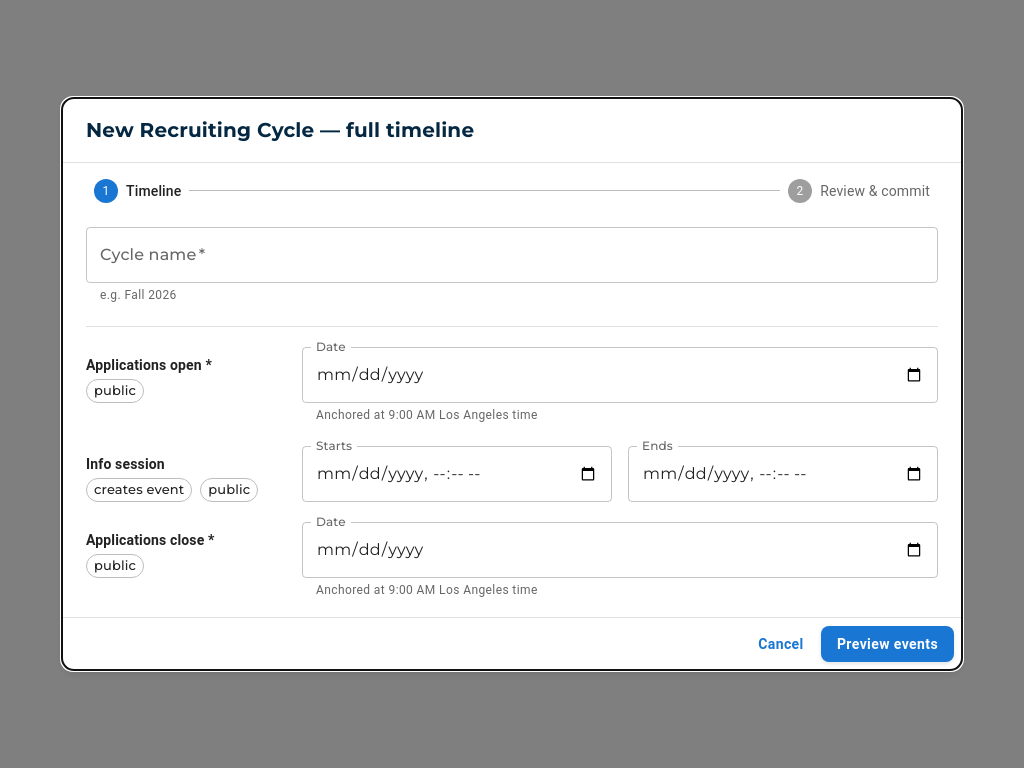
CycleTimelineBootstrapDialog › carries a same-day window with distinct times through preview into commit
This screenshot has width=1024, height=768.
Later steps or results of the test are not shown.
Check: the date field named "Applications open date" is shown, box [302,347,938,403]
Type "Fall 2026" into the field labelled "Cycle name *". click: (512, 255)
box: [86,227,938,283]
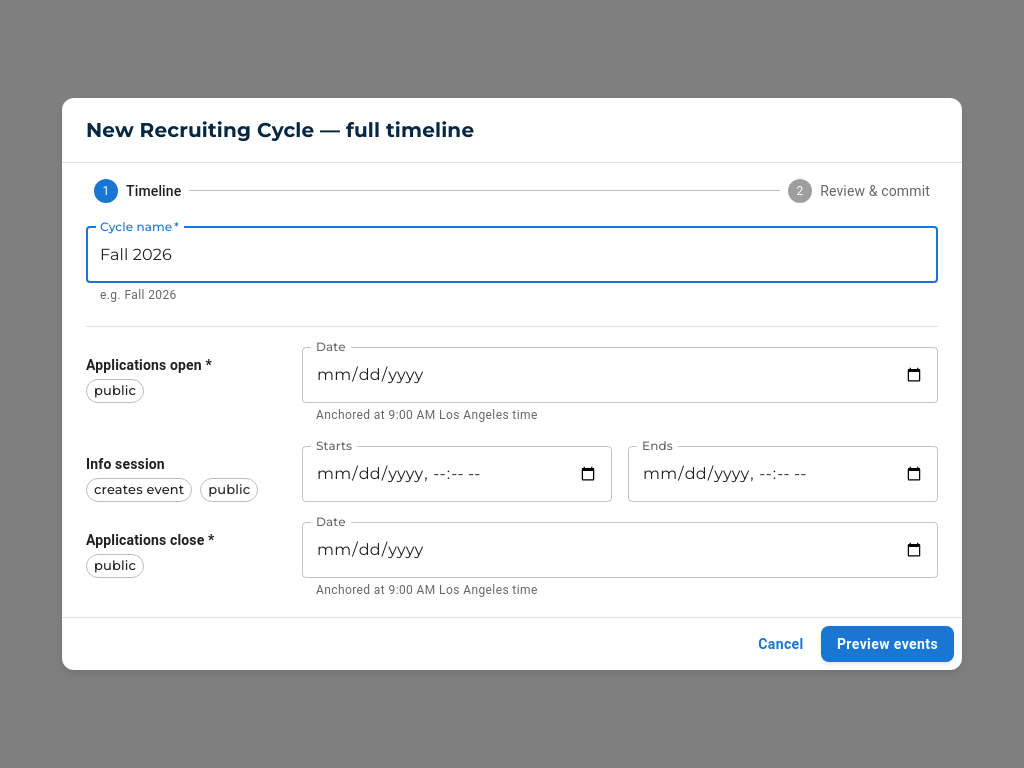
Type "2026-09-01" into the date field named "Applications open date". click: (620, 375)
box: [302,347,938,403]
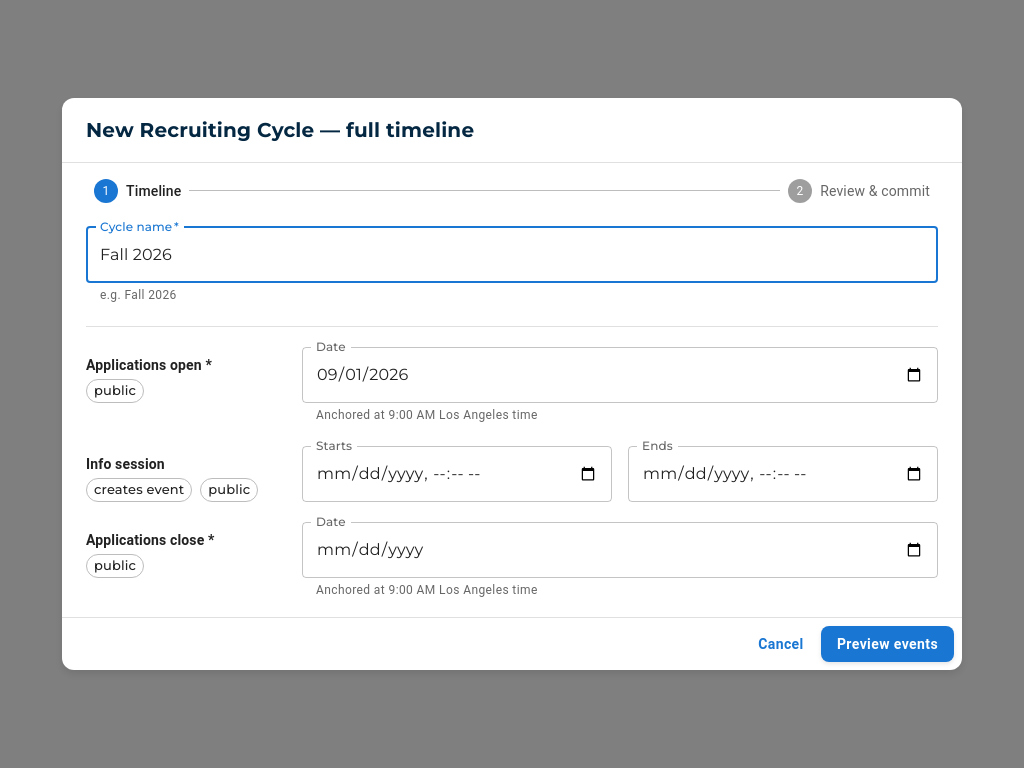
Type "2026-09-05T18:00" into the field named "Info session start". click: (457, 474)
box: [302,446,612,502]
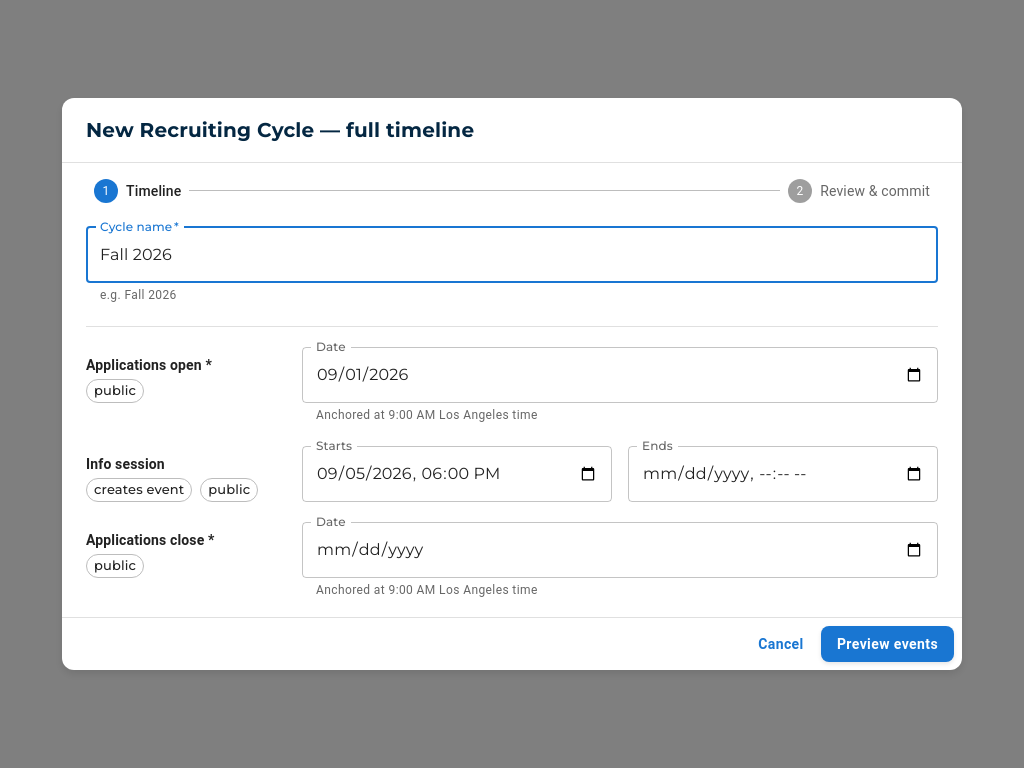
Type "2026-09-05T20:00" into the field named "Info session end". click: (783, 474)
box: [628,446,938,502]
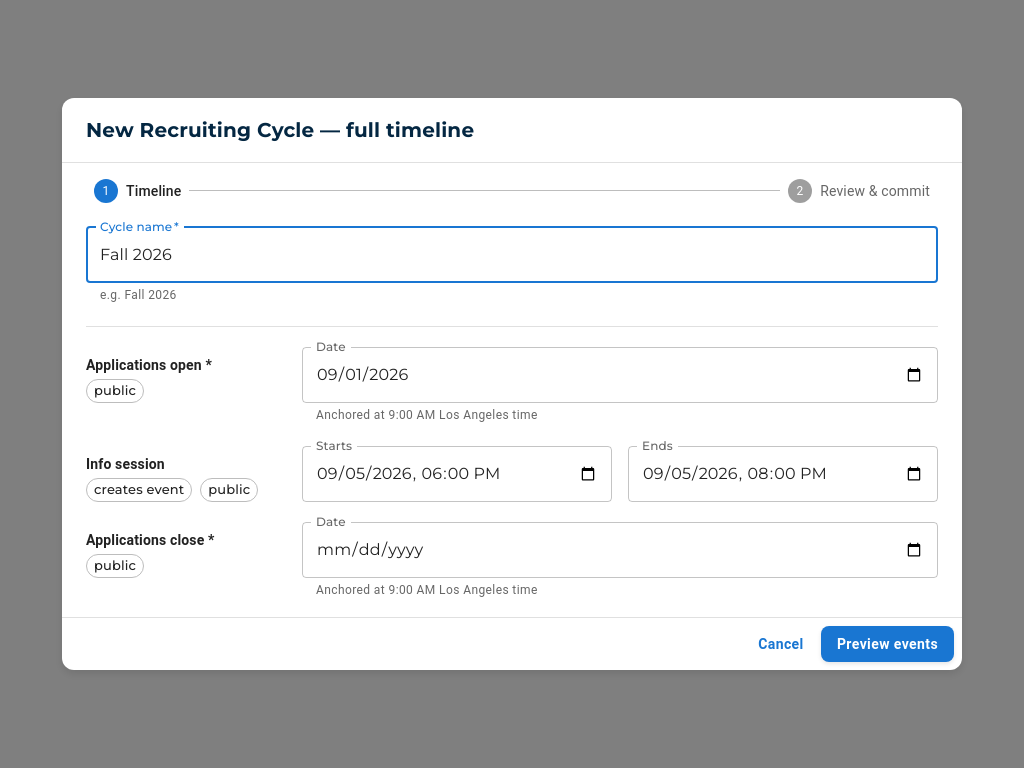
Type "2026-09-20" into the date field named "Applications close date". click: (620, 550)
box: [302,522,938,578]
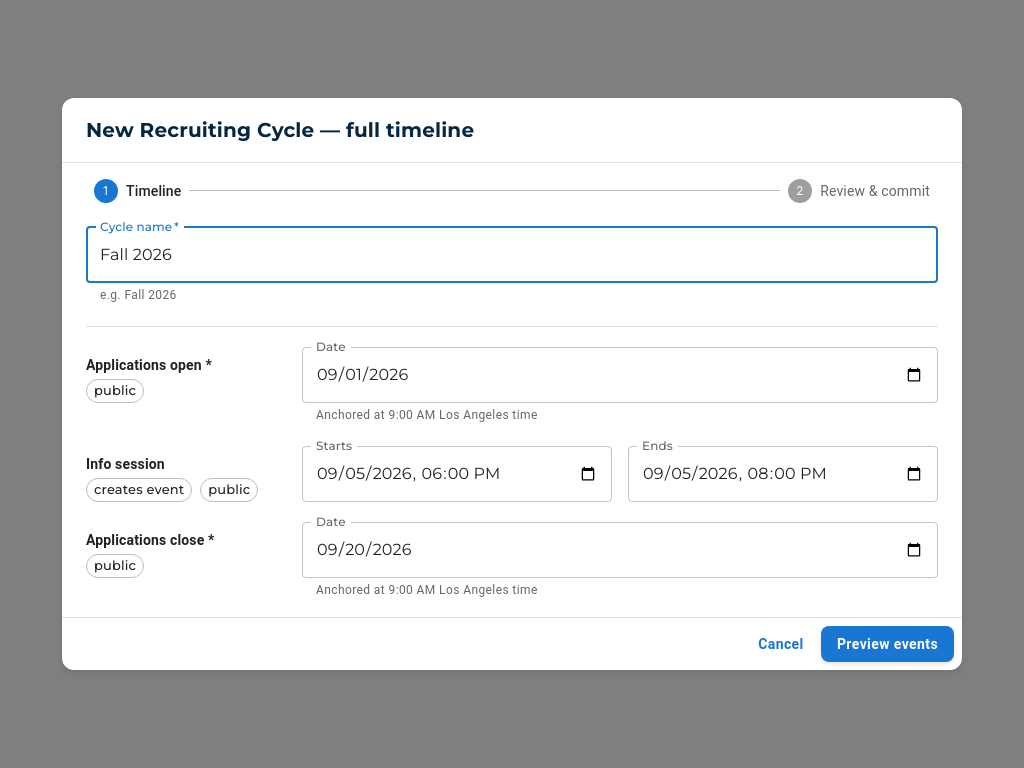
Click the button "Preview events". click: (887, 644)
box: [821,626,954,662]
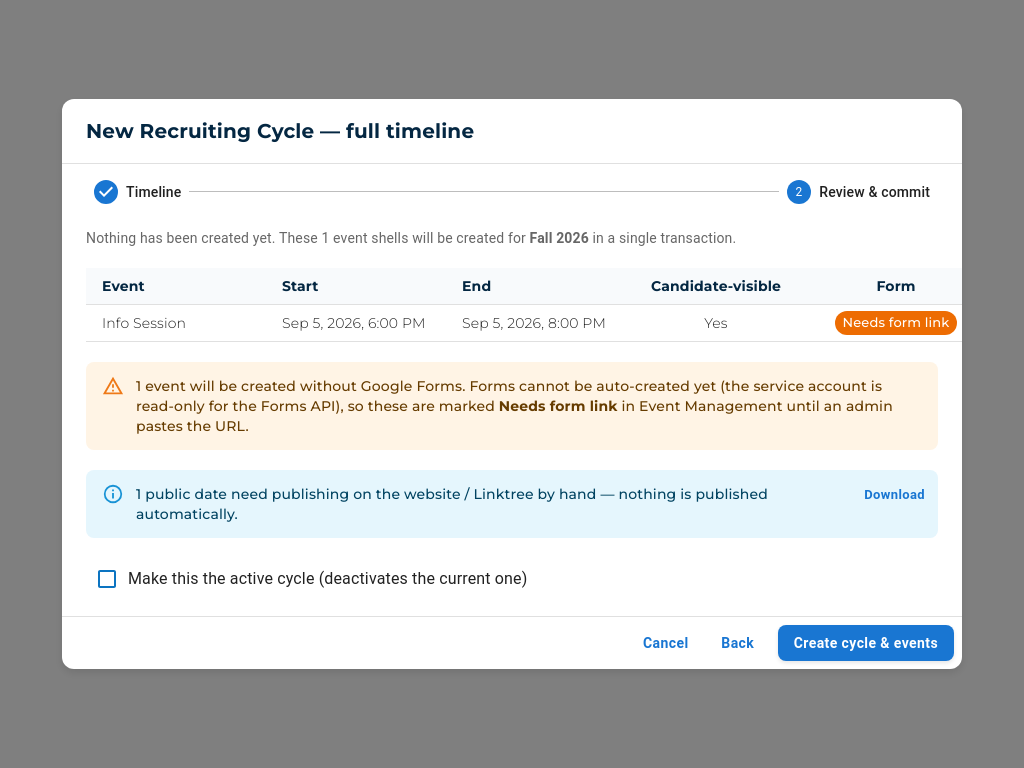
Check: the text "Info Session" is shown, box [86,305,266,342]
Check: the text "Sep 5, 2026, 6:00 PM" is shown, box [266,305,446,342]
Check: the text "Sep 5, 2026, 8:00 PM" is shown, box [446,305,626,342]
